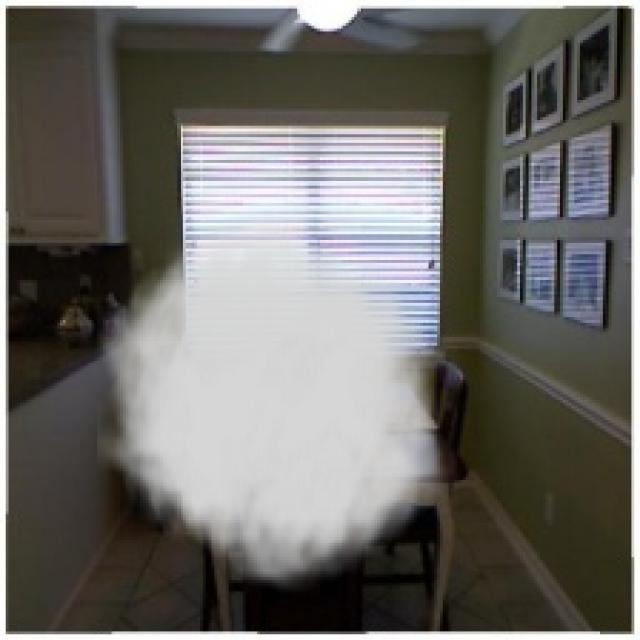smoke: (97, 203, 460, 603)
